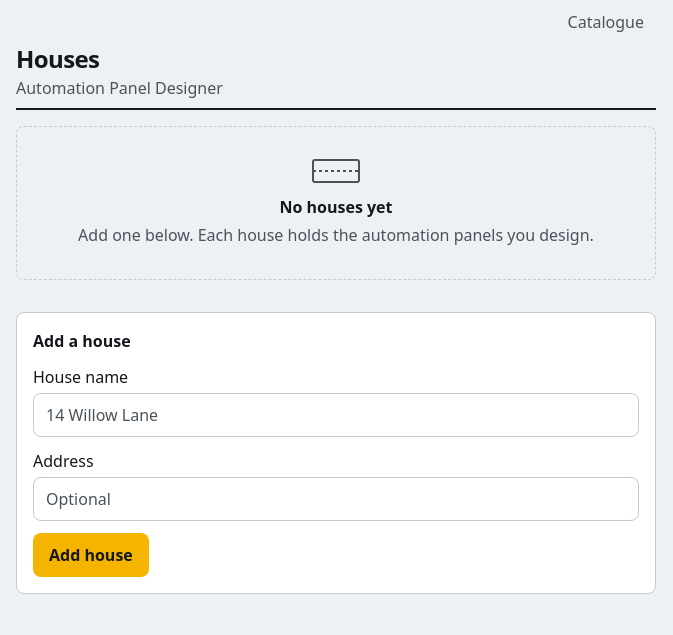
ProjectsPage › reports a field error from the API instead of failing silently
Expected: the text "No houses yet" is shown, [280,196,392,218]
Click the button "Add house" at coordinates (91, 555), box [33,533,149,577]
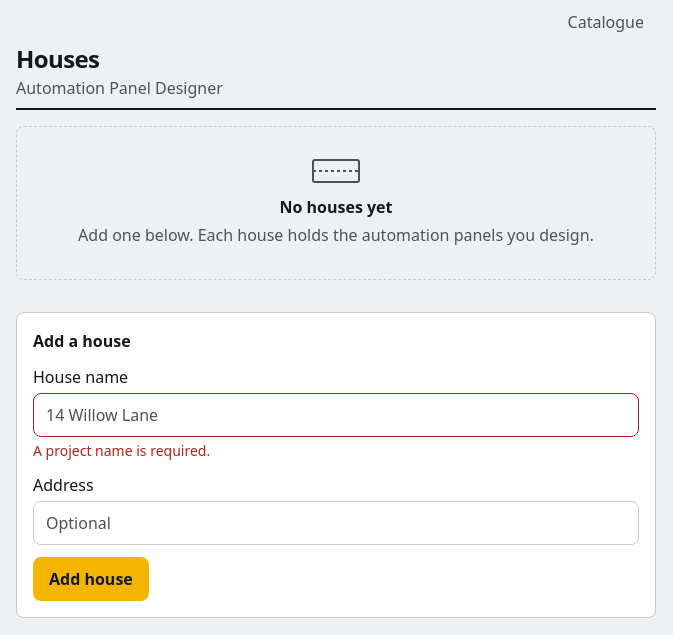
Now the list item "A project name is required." is shown, box [33,441,210,460]
